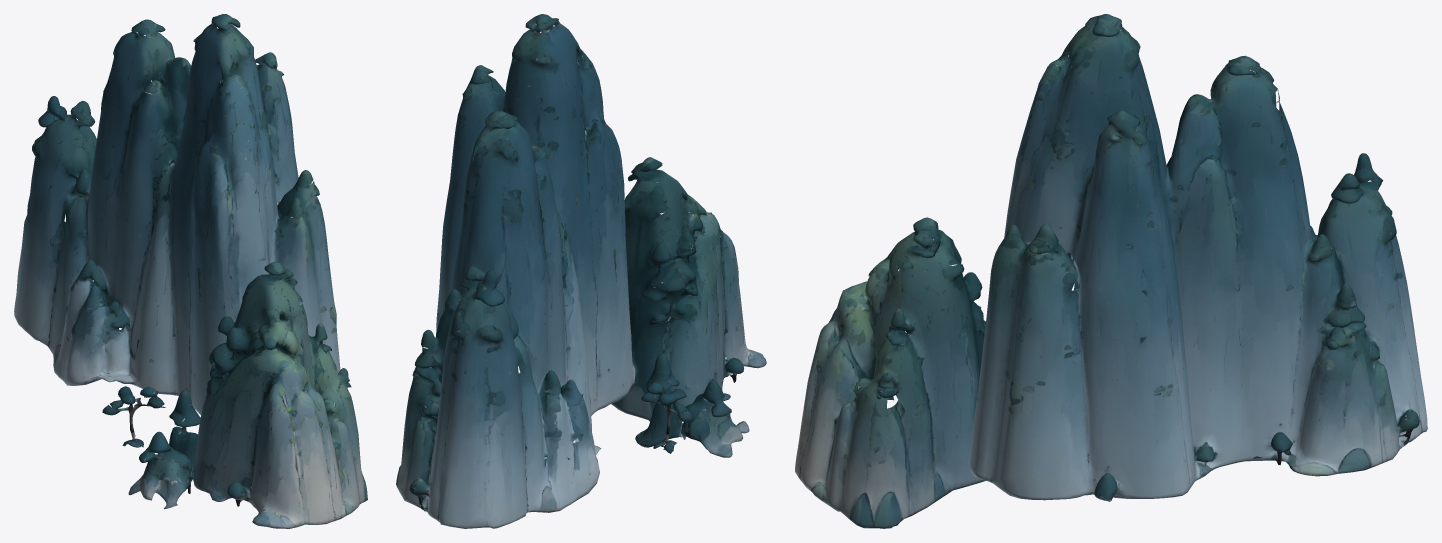
Rendered from mountain2.glb.
3 views of the same model, side by side, from view 1: azimuth 30°, elevation 25°; view 2: azimuth 150°, elevation 25°; view 3: azimuth 270°, elevation 25° (orthographic). The views are drawn at different scales.
Parts seen in each view (by area): view 1: lod0; view 2: lod0; view 3: lod0.
Boxes of the visible parts, x1,y1,x2,y2 form: lod0: (14,14,367,528); lod0: (396,14,766,528); lod0: (795,14,1427,528).
Size of what is drawn, in the model's own units: 0.5837 by 1 by 1.17.
Materials: 1 (1 with a texture image).
